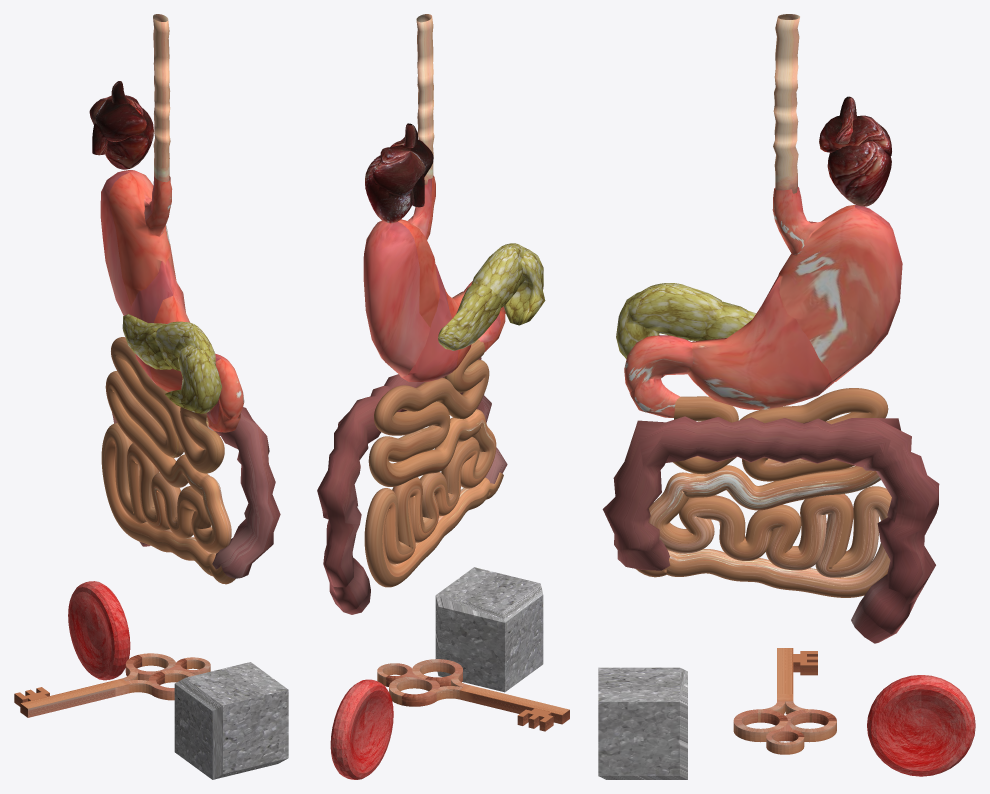
File: organos.fbx
The picture shows the model from 3 angles, left to right: view 1: azimuth 30°, elevation 25°; view 2: azimuth 150°, elevation 25°; view 3: azimuth 270°, elevation 25°; orthographic projection. The views are drawn at different scales.
Parts seen in each view (by area): view 1: SmallIntestine, Stomach, Sugar, LargeIntestine, Pancreas, Blood, InsulinKey, Heart, Esophagus; view 2: SmallIntestine, Stomach, Sugar, LargeIntestine, Pancreas, InsulinKey, Blood, Heart, Esophagus; view 3: SmallIntestine, Stomach, LargeIntestine, Sugar, Blood, Pancreas, Heart, InsulinKey, Esophagus.
Boxes of the visible parts, x1,y1,x2,y2 form: SmallIntestine: (101, 337, 235, 584); Stomach: (100, 170, 244, 432); Sugar: (174, 662, 288, 779); LargeIntestine: (112, 407, 280, 578); Pancreas: (122, 314, 222, 413); Blood: (68, 581, 130, 680); InsulinKey: (14, 653, 210, 717); Heart: (89, 81, 153, 169); Esophagus: (153, 14, 170, 182); SmallIntestine: (364, 339, 503, 587); Stomach: (363, 175, 505, 381); Sugar: (435, 567, 543, 692); LargeIntestine: (317, 357, 507, 614); Pancreas: (438, 243, 545, 350); InsulinKey: (377, 659, 569, 731); Blood: (330, 679, 393, 779); Heart: (365, 123, 433, 223); Esophagus: (416, 14, 434, 184); SmallIntestine: (636, 388, 891, 597); Stomach: (624, 187, 902, 417); LargeIntestine: (602, 416, 939, 643); Sugar: (598, 667, 687, 779); Blood: (867, 675, 975, 776); Pancreas: (616, 283, 756, 358); Heart: (819, 96, 891, 206); InsulinKey: (733, 648, 836, 754); Esophagus: (773, 14, 799, 193).
Size of the model in its own units: 842 by 3073 by 1387.
9 materials, 9 textured.
